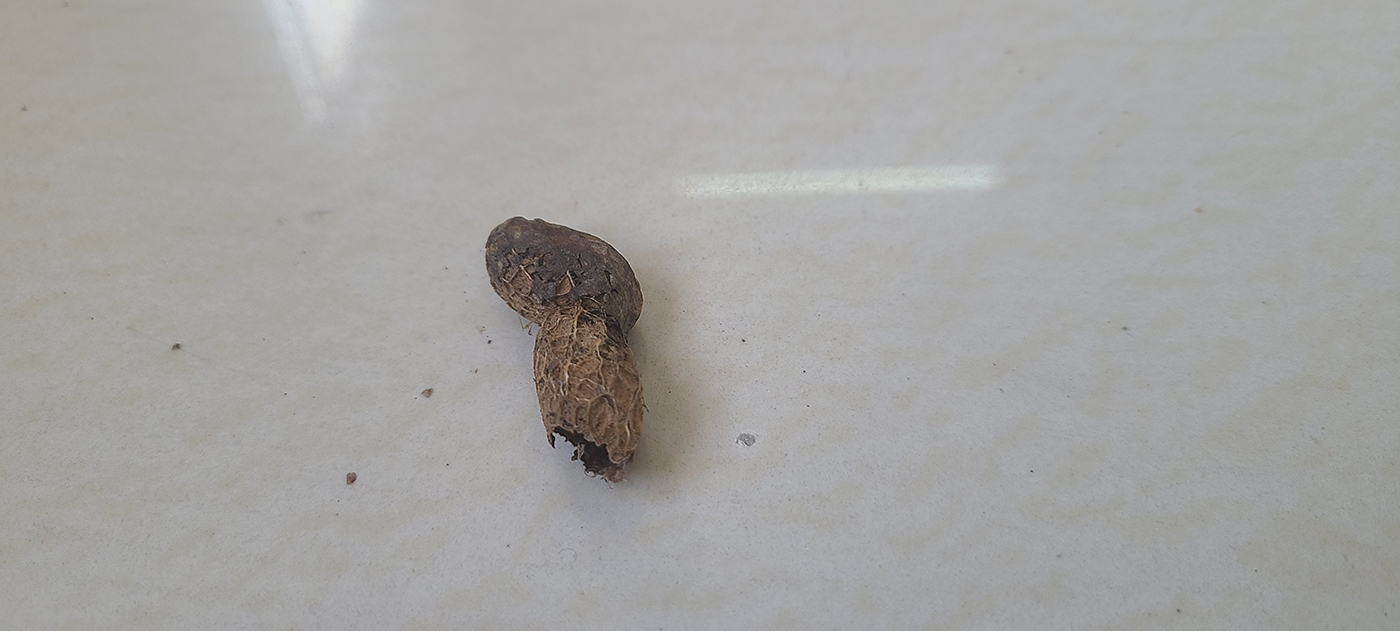l: (486, 214, 646, 479)
